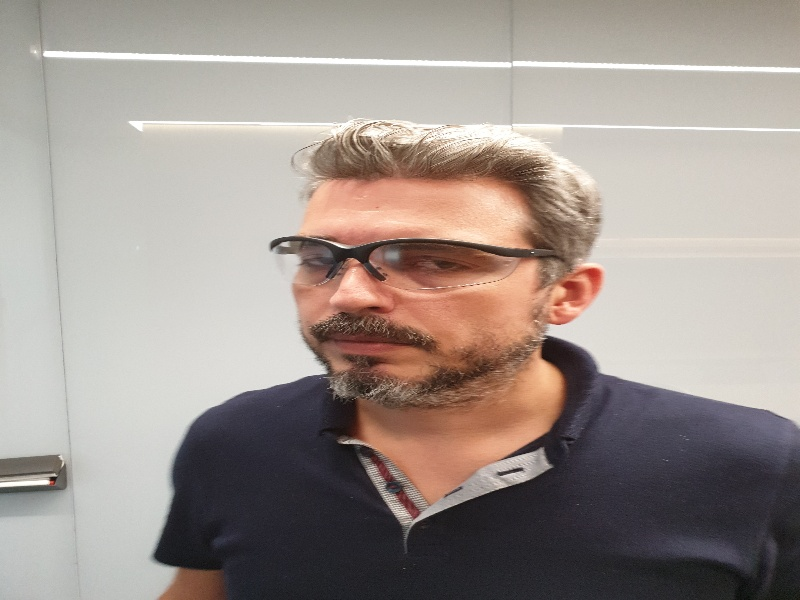Gozluk: (267, 235, 570, 296)
